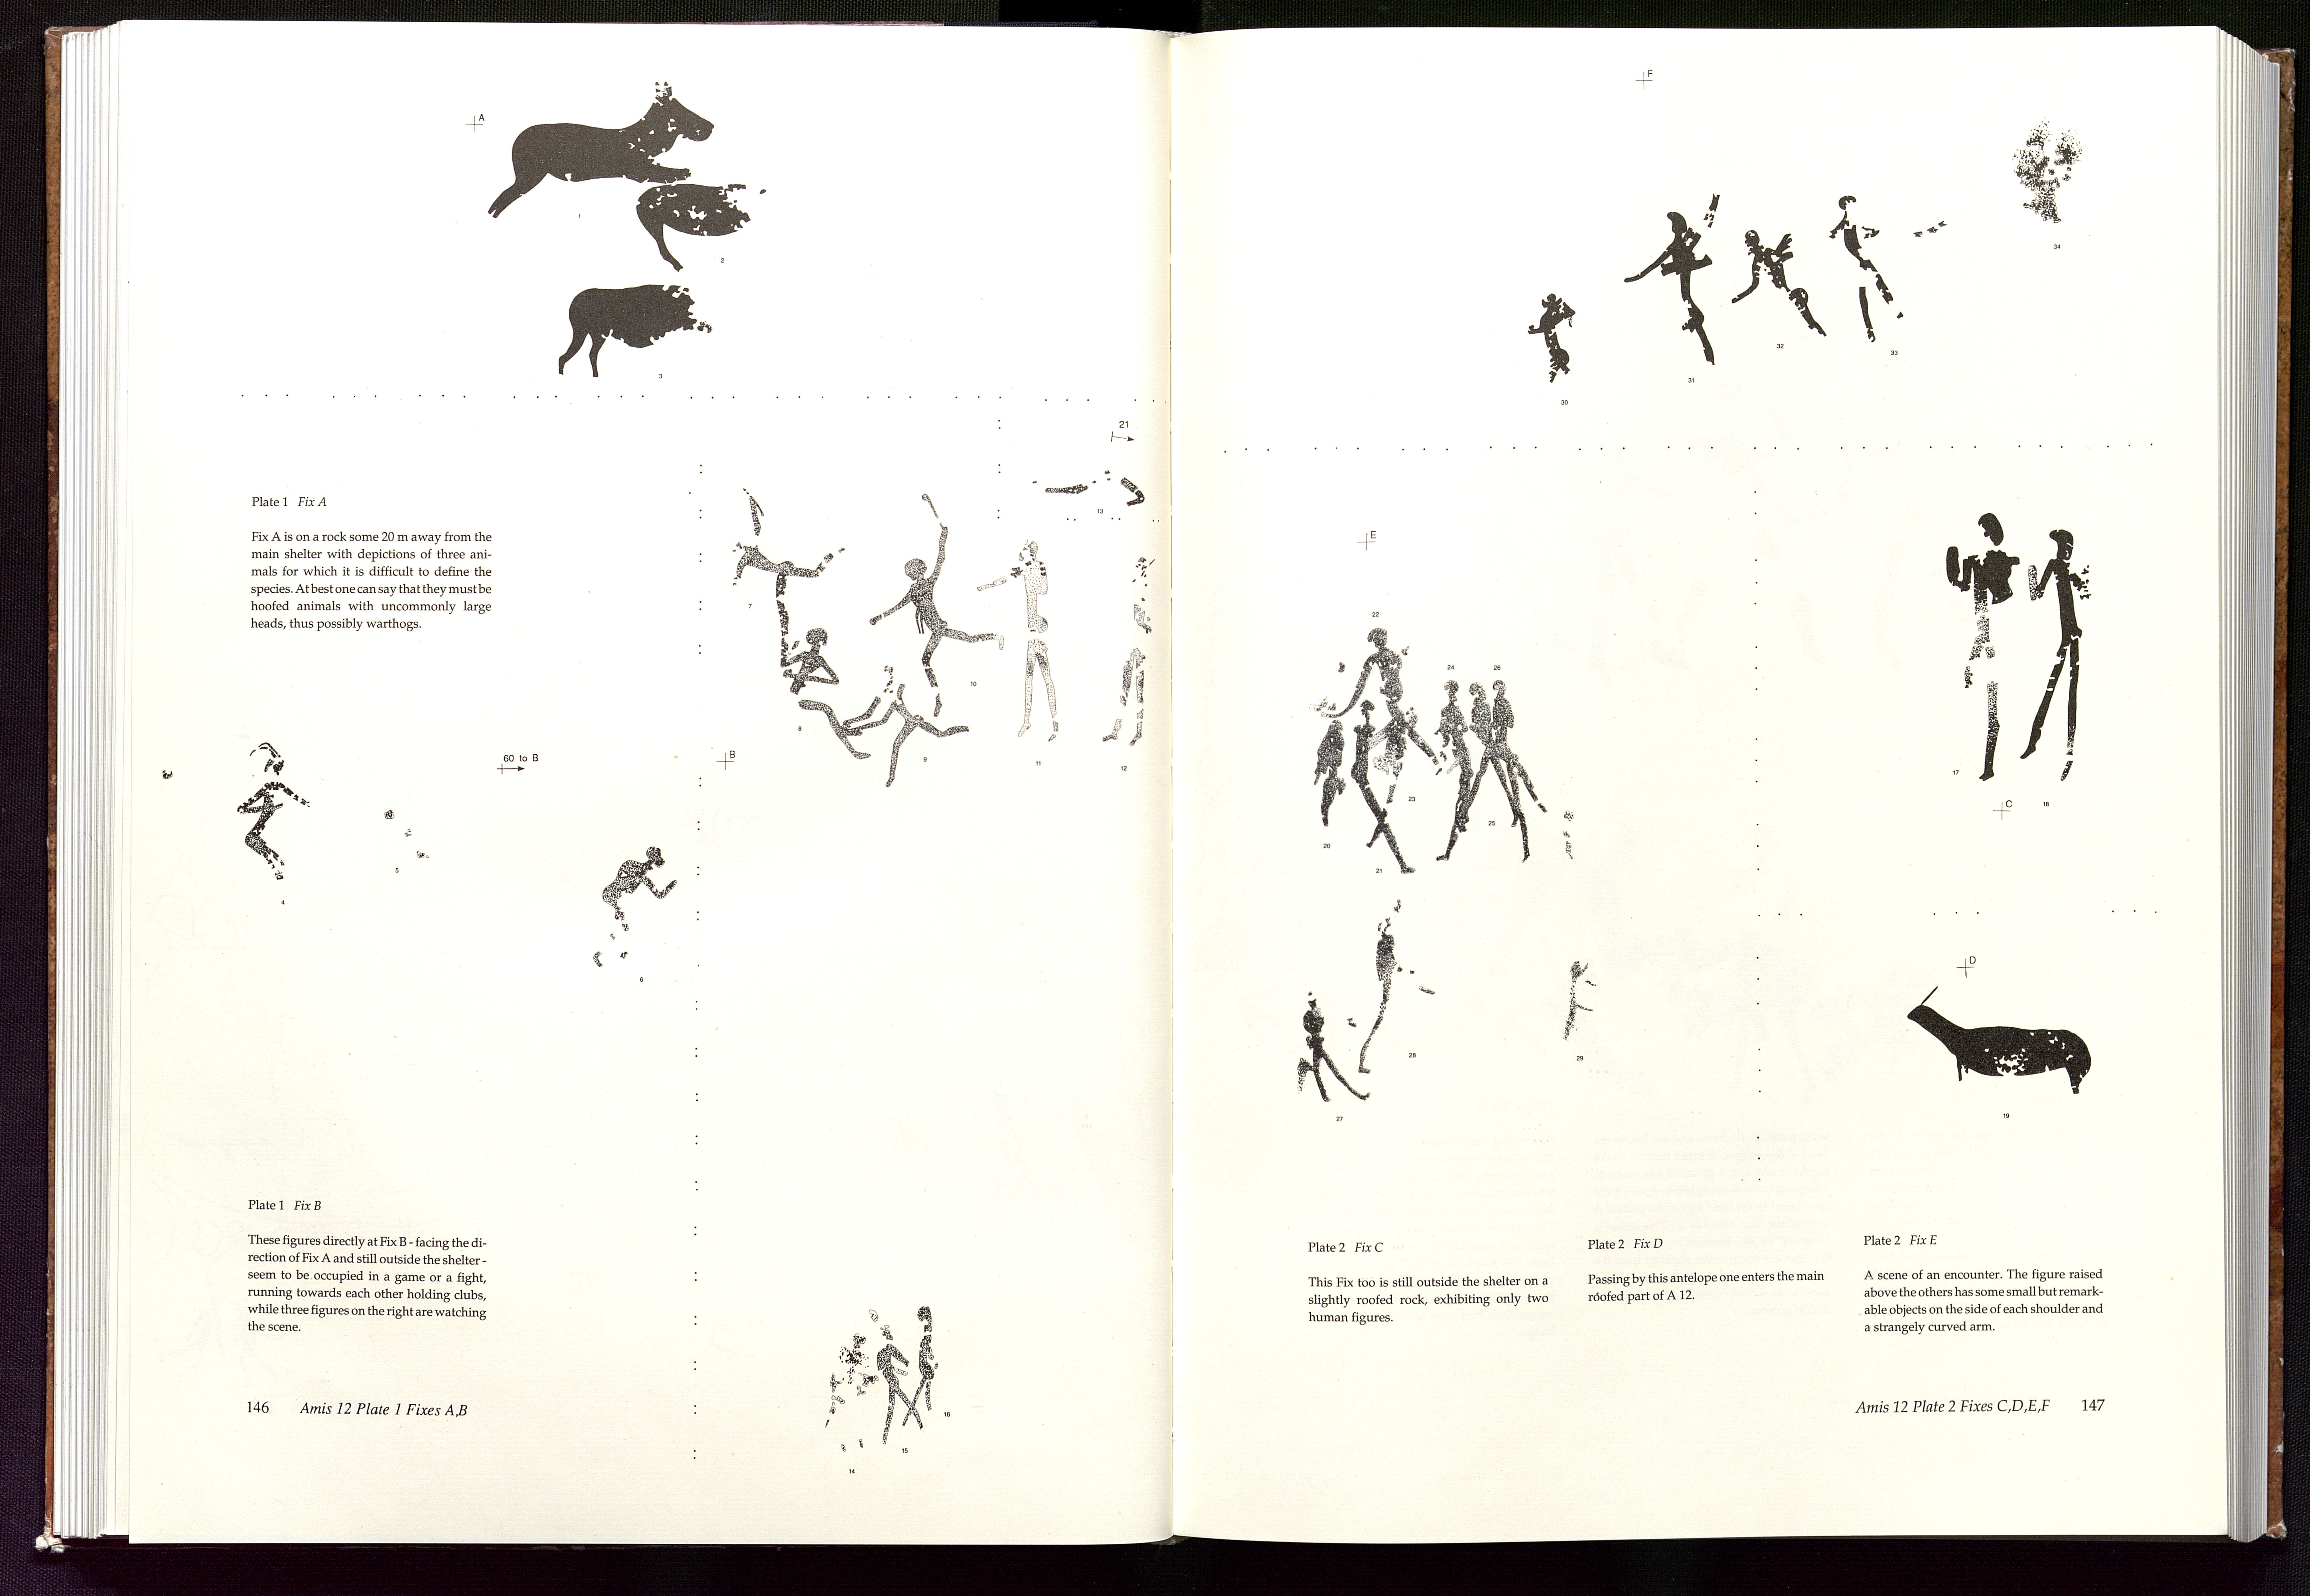animal: (449, 77, 756, 220), (1895, 968, 2104, 1126), (527, 266, 724, 392)
human: (864, 492, 1004, 730), (1925, 507, 2025, 787), (2011, 522, 2106, 797), (1426, 676, 1549, 873), (1315, 617, 1453, 789), (969, 534, 1072, 753), (1333, 694, 1436, 890), (1812, 187, 1932, 352), (225, 725, 316, 917), (1627, 202, 1721, 374), (591, 838, 687, 976), (1726, 224, 1836, 342), (1279, 988, 1370, 1113), (869, 1310, 928, 1442), (895, 1298, 942, 1425)
